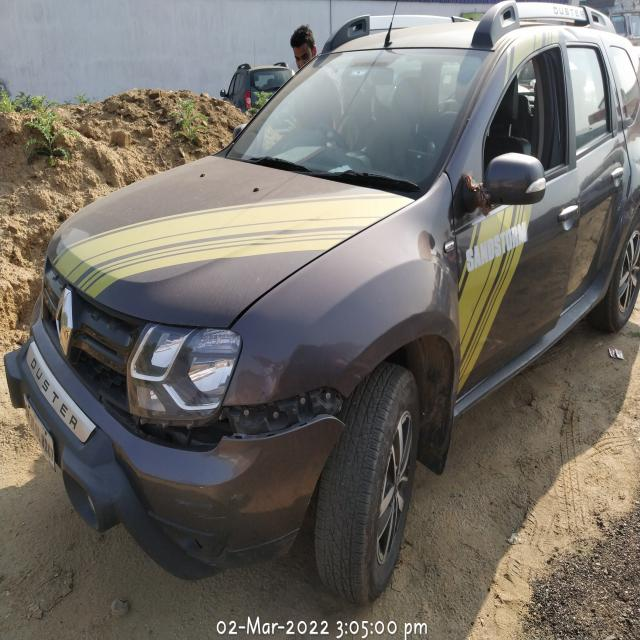damage: (96, 381, 350, 457)
